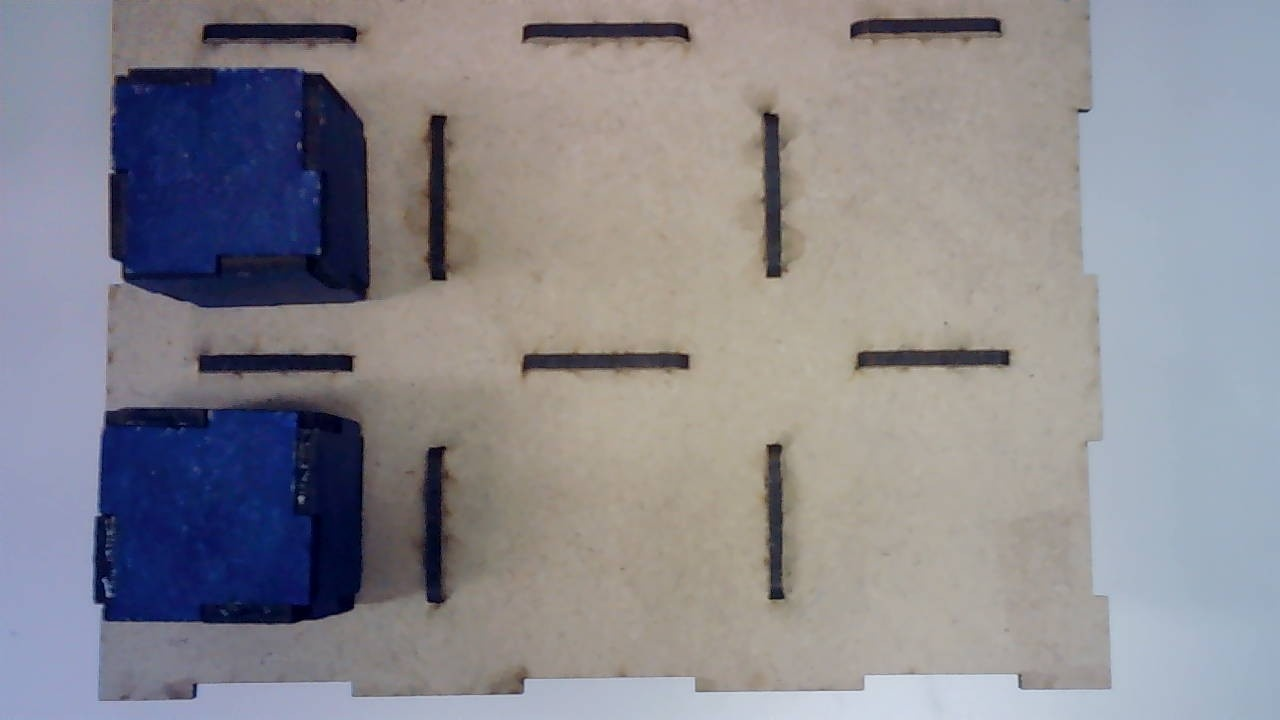blue box: (105, 64, 371, 304), (94, 403, 365, 624)
